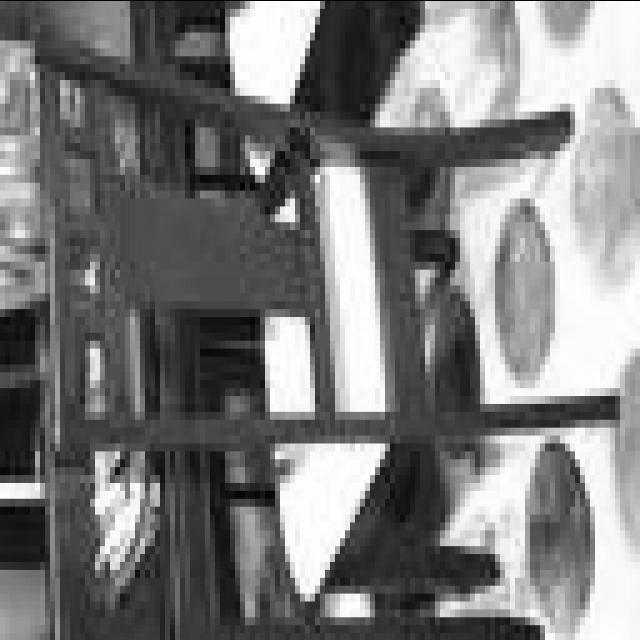chair: (35, 33, 620, 610)
